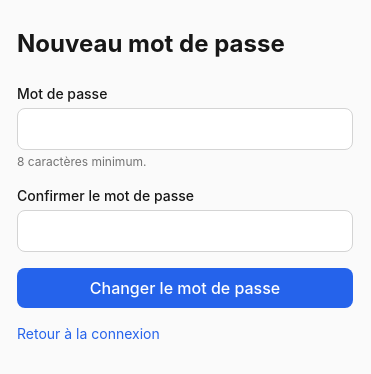
Test: ResetPasswordPage › blocks mismatched confirmations before hitting the API
Type "brand-new-secret" into the password field labelled "Mot de passe". click: {"x": 185, "y": 129}
box: [17, 108, 353, 150]
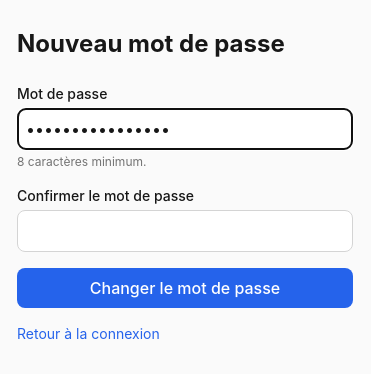
Type "something-else" into the password field labelled "Confirmer le mot de passe". click: {"x": 185, "y": 231}
box: [17, 210, 353, 252]
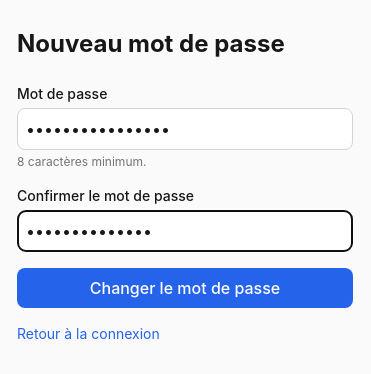
Click the button "Changer le mot de passe". click: {"x": 185, "y": 288}
box: [17, 268, 353, 308]
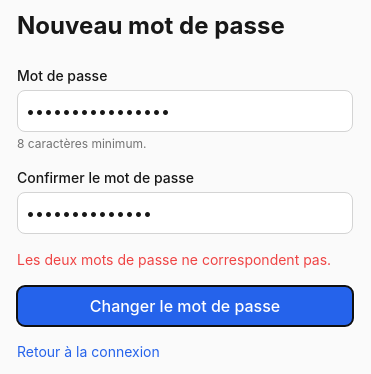
Check: the message shows "ne correspondent pas", box [17, 251, 331, 268]
